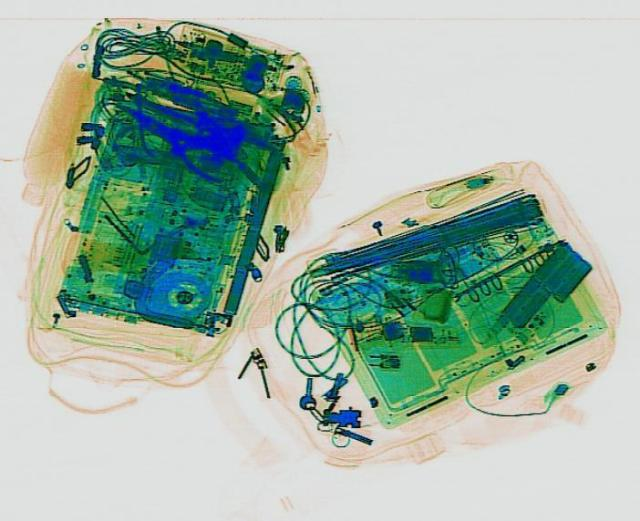Pliers: (102, 91, 245, 187)
